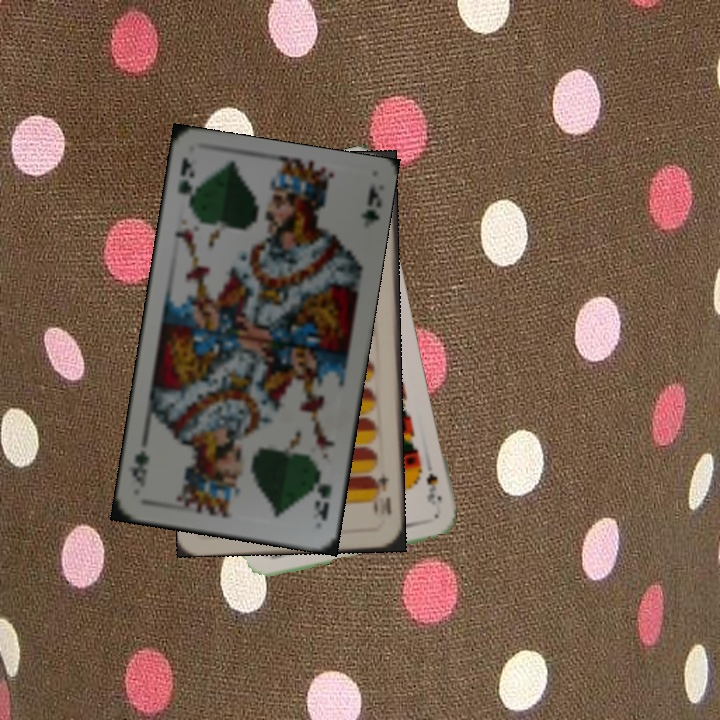E10: (368, 466, 394, 518)
GK: (173, 153, 199, 212), (311, 479, 335, 524)
S9: (422, 469, 445, 508)
